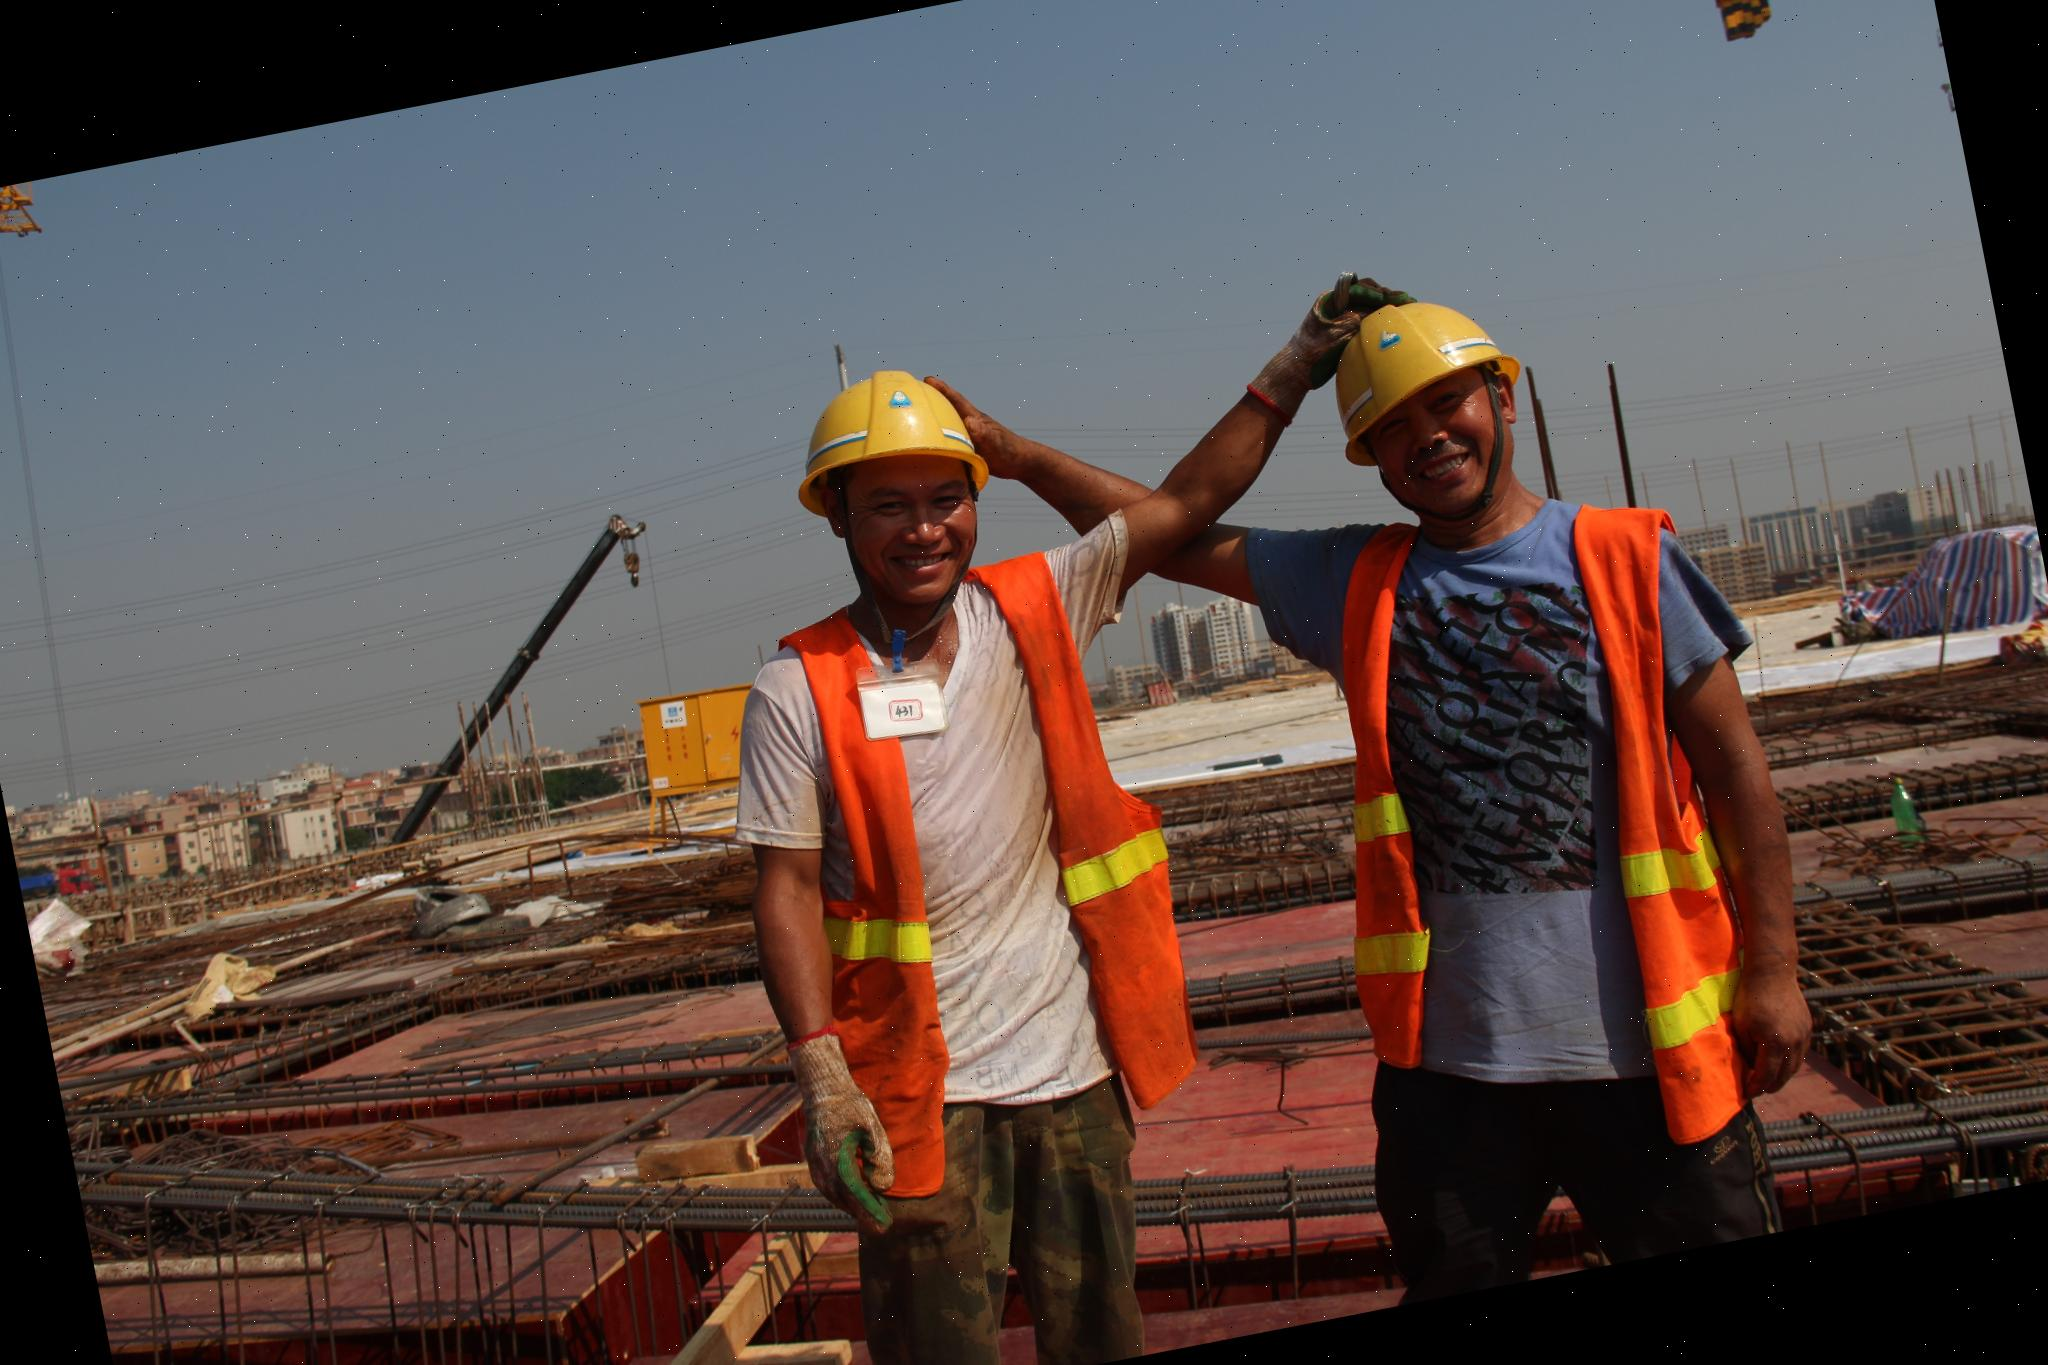helmet: (1305, 276, 1526, 462), (774, 352, 990, 507)
wear: (1343, 481, 1818, 1141), (729, 556, 1201, 1152)
